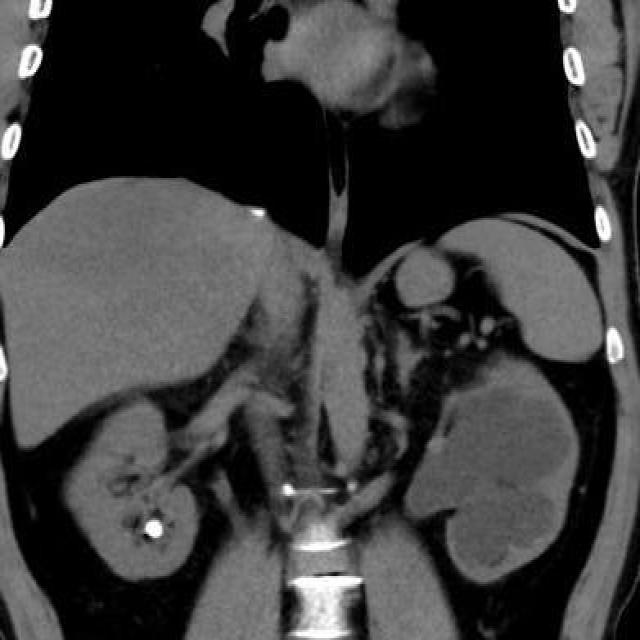Tas_Var: (138, 513, 170, 545)
